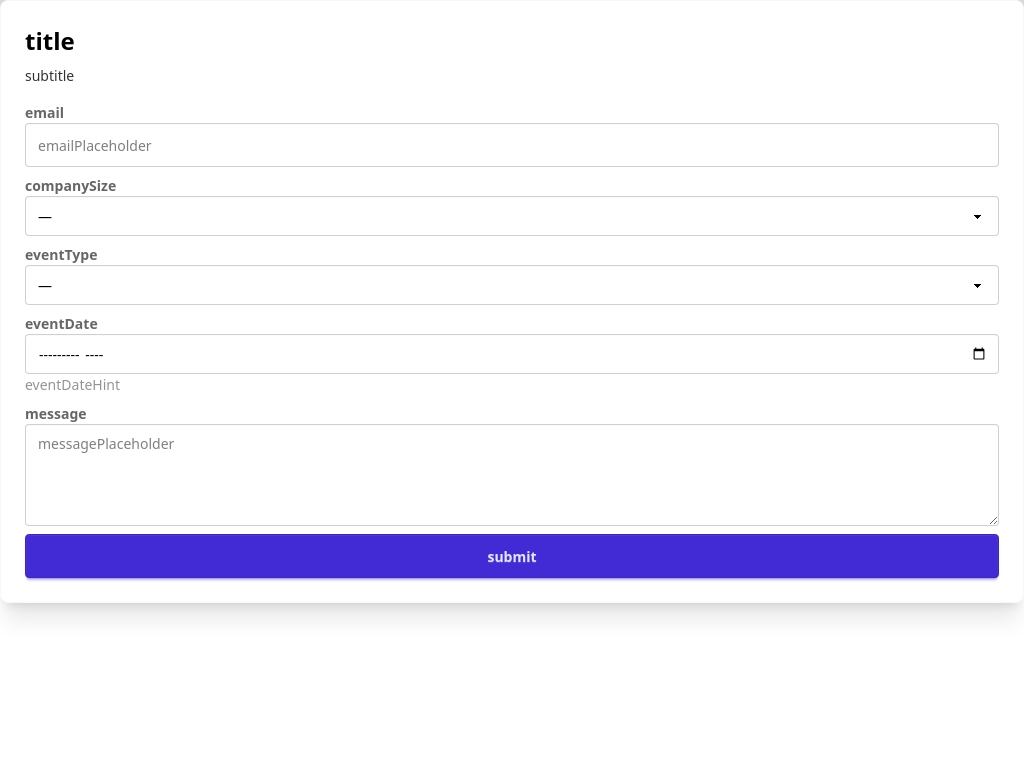
Test case: B2BLeadForm › shows a generic error when the server returns 500
This screenshot has width=1024, height=768.
Type "alice@corp.com" into the field with placeholder "emailPlaceholder". click: (512, 145)
box: top-left (25, 123), bottom-right (999, 167)
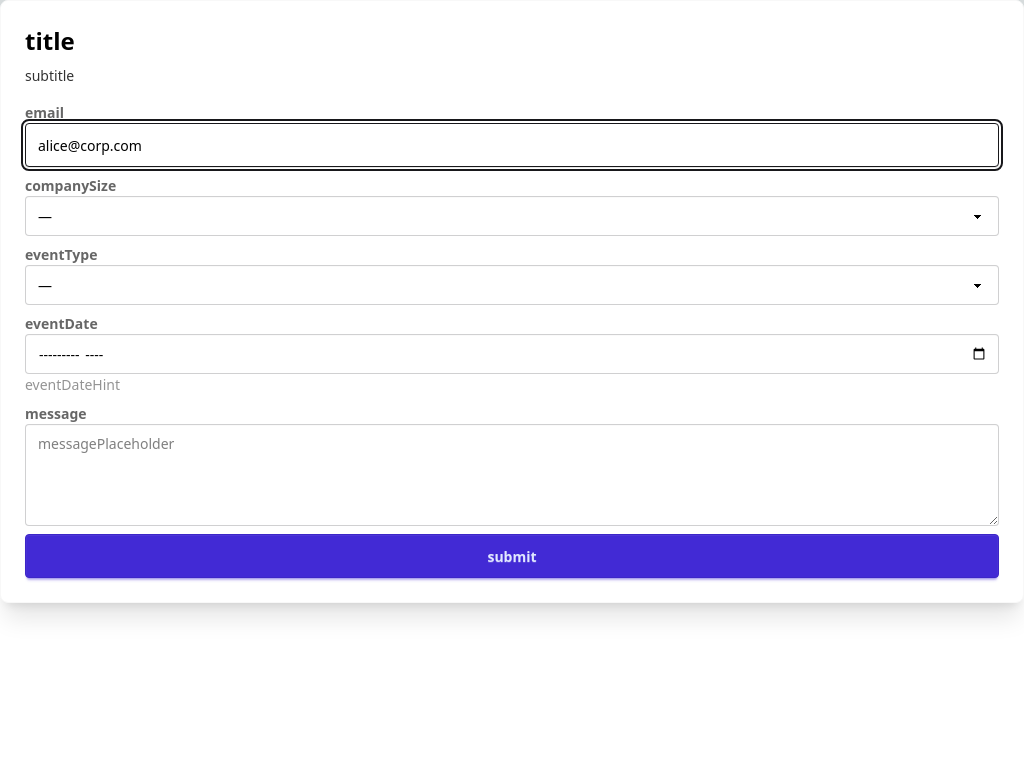
Select "companySizes.s3" in the dropdown labelled "companySize". click: (512, 216)
box: top-left (25, 196), bottom-right (999, 236)
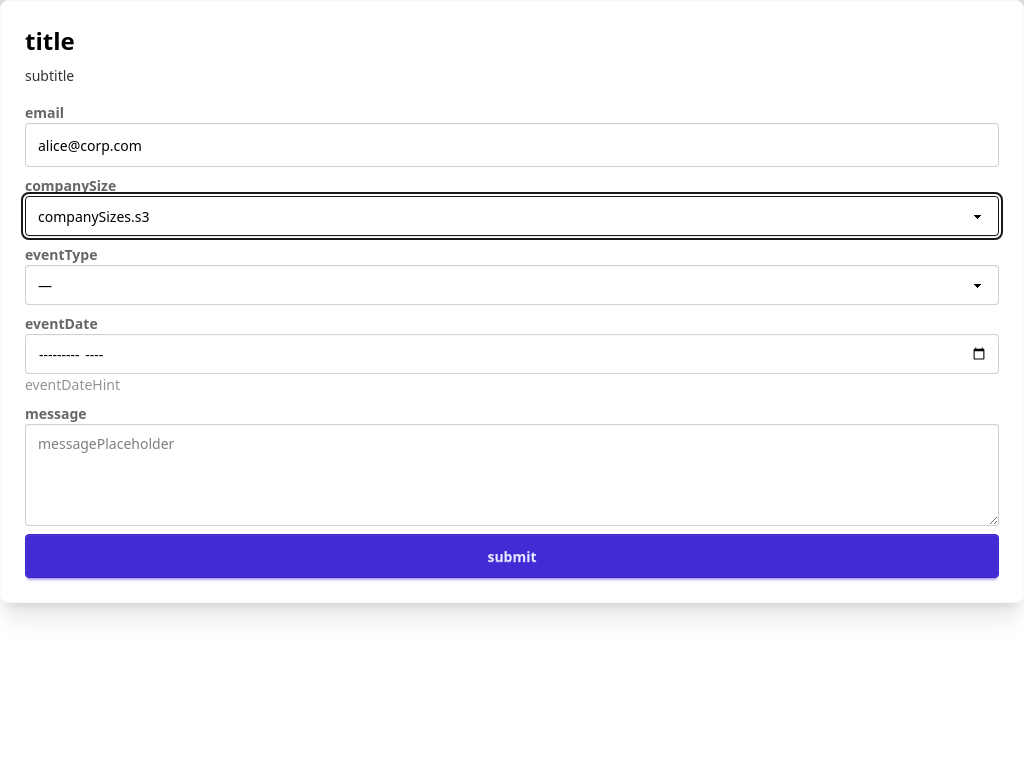
Select "eventTypes.seminar" in the dropdown labelled "eventType". click: (512, 285)
box: top-left (25, 265), bottom-right (999, 305)
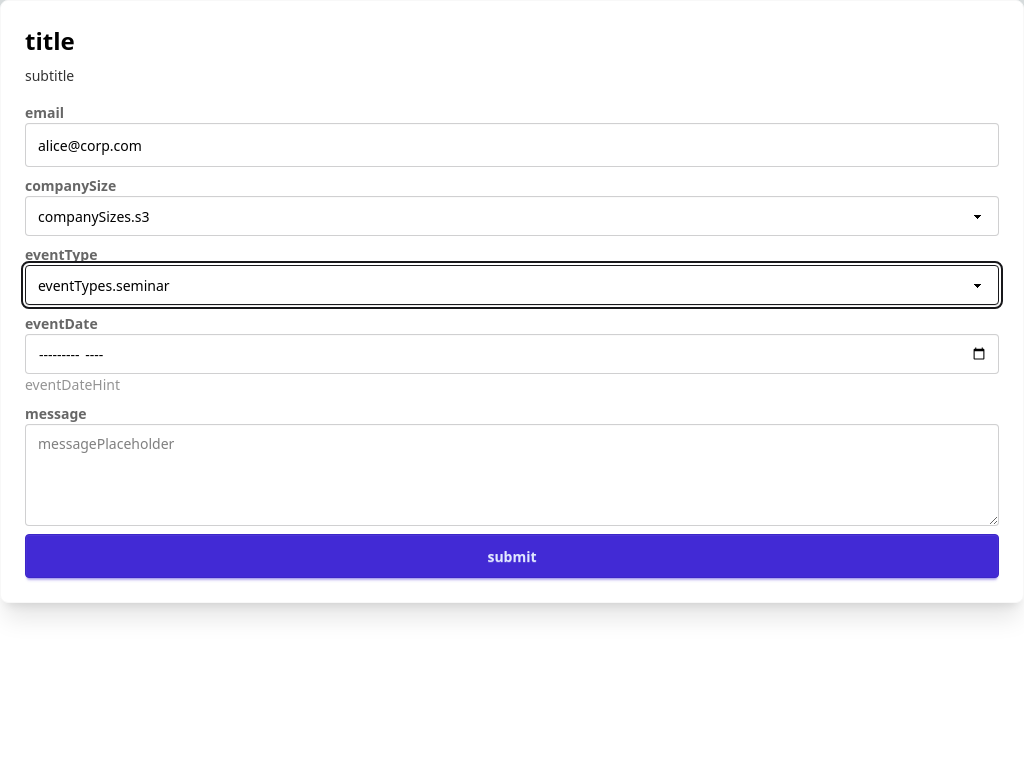
Click the button "submit". click: (512, 556)
box: top-left (25, 534), bottom-right (999, 578)
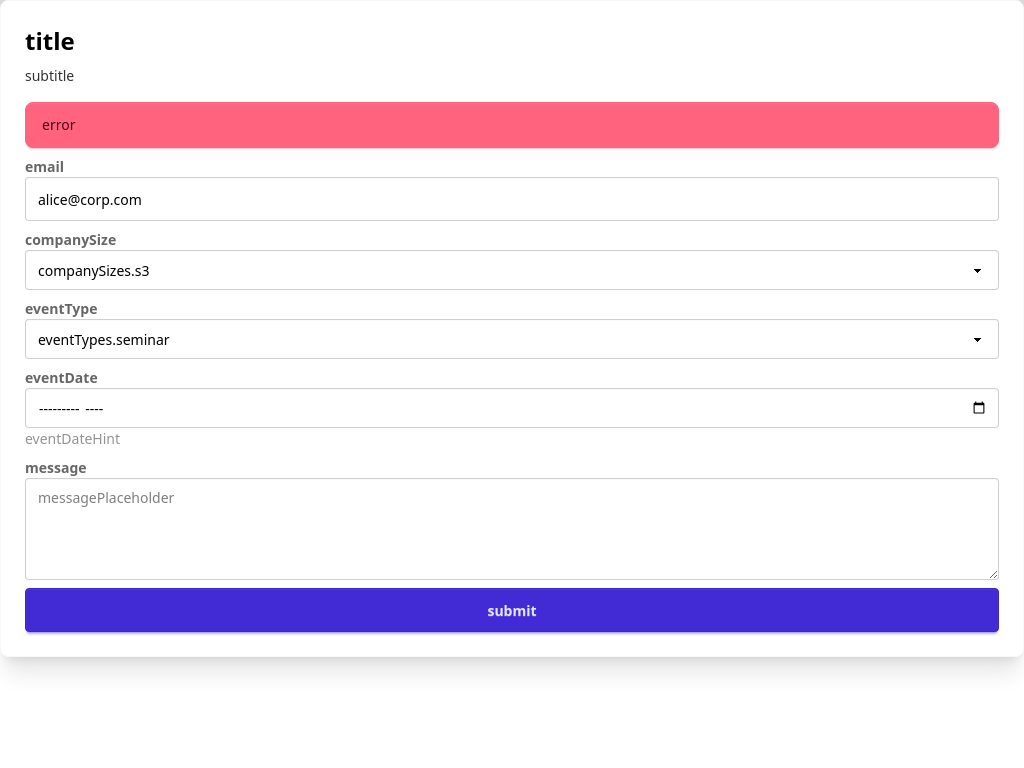
Result: the text "error" is shown at top-left (42, 115), bottom-right (75, 135)
